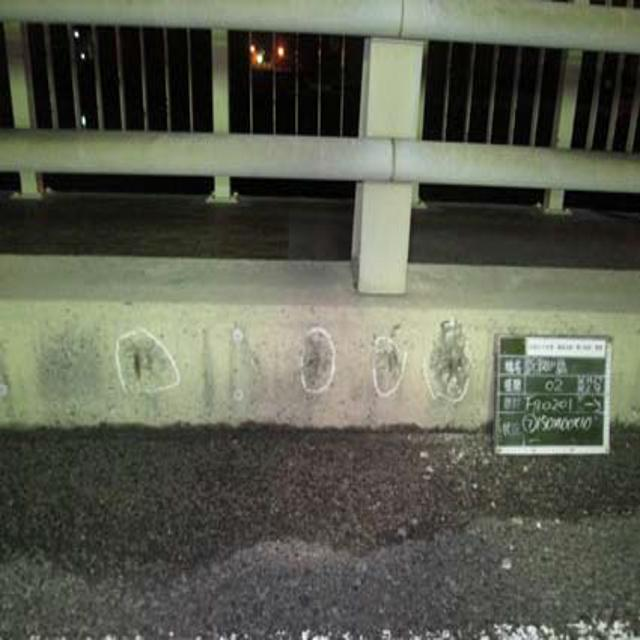spalling: (284, 326, 474, 414), (102, 327, 197, 407)
